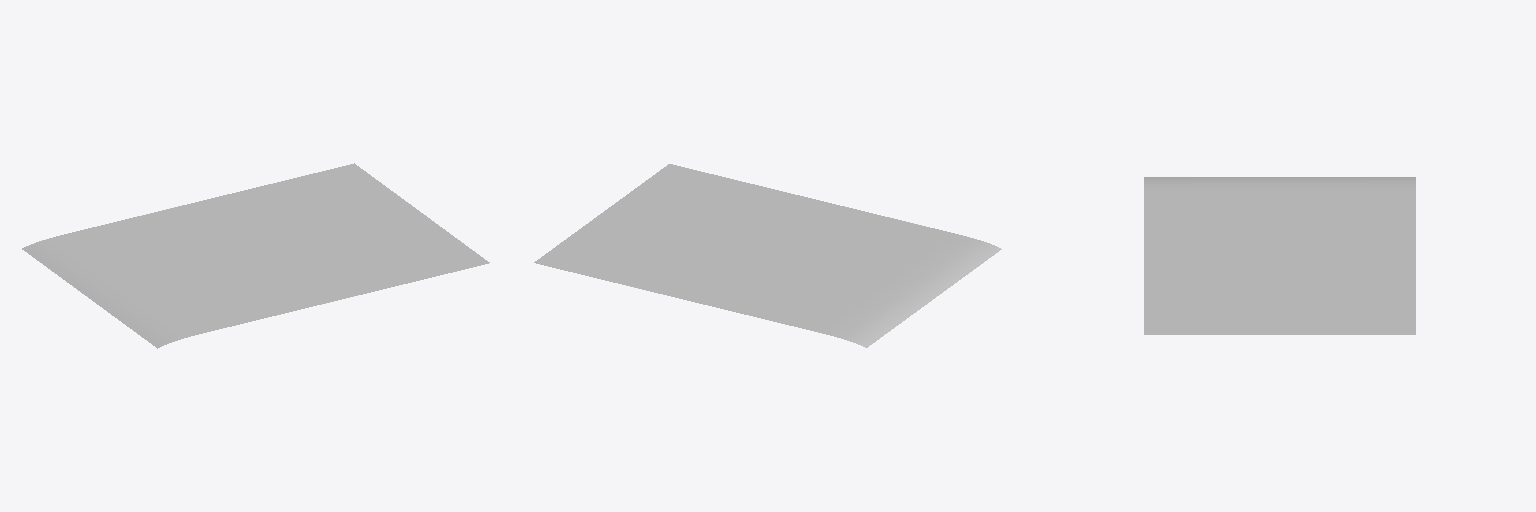
File: CurvePaper_000072.obj
3 renders of one model, left to right at view 1: azimuth 30°, elevation 25°; view 2: azimuth 150°, elevation 25°; view 3: azimuth 270°, elevation 25°, orthographic.
Parts seen in each view (by area): view 1: Plane; view 2: Plane; view 3: Plane.
Boxes of the visible parts, x1=… form: Plane: x1=22, y1=163, x2=489, y2=348; Plane: x1=534, y1=164, x2=1001, y2=347; Plane: x1=1144, y1=177, x2=1415, y2=334.
Bounding box in the file's own units: 3.2 × 0.0397 × 2.26.